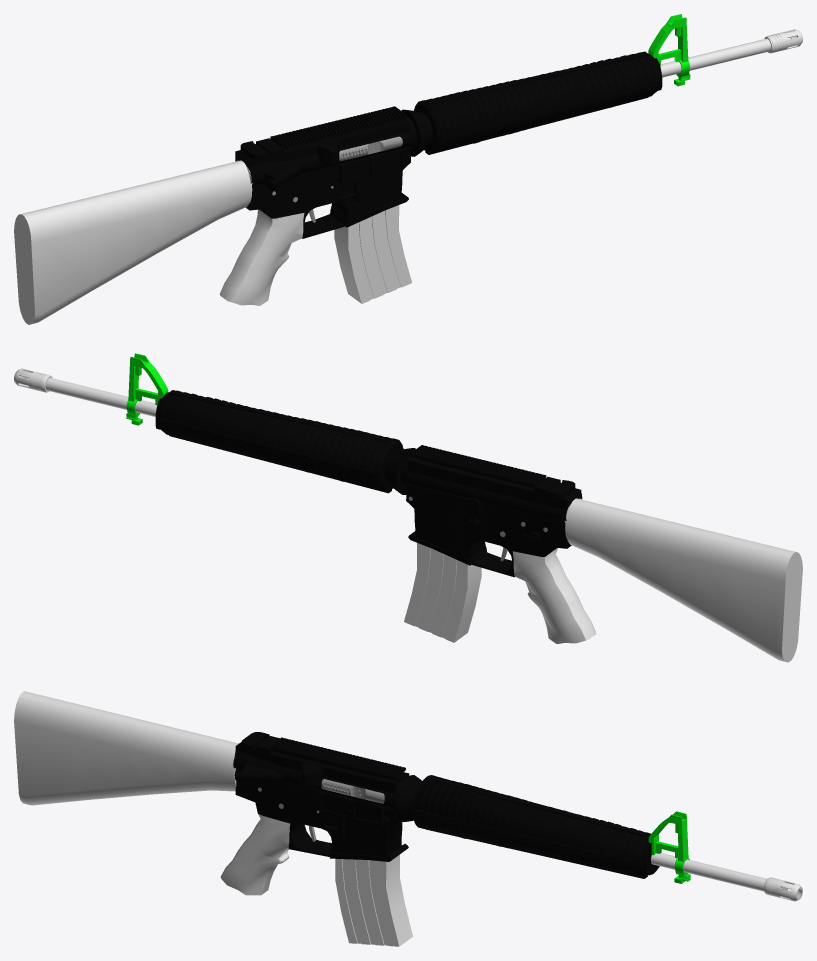
3 renders of one model, top to bottom at view 1: azimuth 30°, elevation 25°; view 2: azimuth 150°, elevation 25°; view 3: azimuth 330°, elevation 25°, orthographic.
Parts seen in each view (by area): view 1: m16a4_stock, m16a4_hand guard, m16a4, m16a4_mag, m16a4_grip, m16a4_Picatinny rail, m16a4_barrel, m16a4_front sight, m16a4_ejection port cover, m16a4_bolt carrier, m16a4_muzzle break; view 2: m16a4_stock, m16a4, m16a4_hand guard, m16a4_mag, m16a4_grip, m16a4_Picatinny rail, m16a4_barrel, m16a4_front sight, m16a4_muzzle break; view 3: m16a4_stock, m16a4_hand guard, m16a4, m16a4_mag, m16a4_grip, m16a4_Picatinny rail, m16a4_barrel, m16a4_front sight, m16a4_ejection port cover, m16a4_bolt carrier, m16a4_muzzle break.
Boxes of the visible parts, x1,y1,x2,y2 form: m16a4_stock: (14,160,252,324); m16a4_hand guard: (401,51,662,156); m16a4: (235,119,411,238); m16a4_mag: (334,205,411,303); m16a4_grip: (219,209,304,305); m16a4_Picatinny rail: (270,106,405,149); m16a4_barrel: (660,38,771,77); m16a4_front sight: (648,14,690,86); m16a4_ejection port cover: (339,150,403,183); m16a4_bolt carrier: (339,136,402,161); m16a4_muzzle break: (764,29,802,53); m16a4_stock: (565,498,802,662); m16a4: (406,457,582,577); m16a4_hand guard: (155,390,415,494); m16a4_mag: (404,543,481,642); m16a4_grip: (513,548,596,643); m16a4_Picatinny rail: (411,445,546,487); m16a4_barrel: (45,378,157,416); m16a4_front sight: (126,353,168,425); m16a4_muzzle break: (14,368,52,392); m16a4_stock: (14,691,238,805); m16a4_hand guard: (393,775,659,878); m16a4: (233,736,409,861); m16a4_mag: (335,854,412,946); m16a4_grip: (220,814,290,895); m16a4_Picatinny rail: (270,737,405,780); m16a4_barrel: (651,853,766,891); m16a4_front sight: (648,811,690,883); m16a4_ejection port cover: (319,792,383,826); m16a4_bolt carrier: (321,779,384,803); m16a4_muzzle break: (764,877,802,901).
Size of the model in its own units: 39.58 by 9.88 by 2.99.
